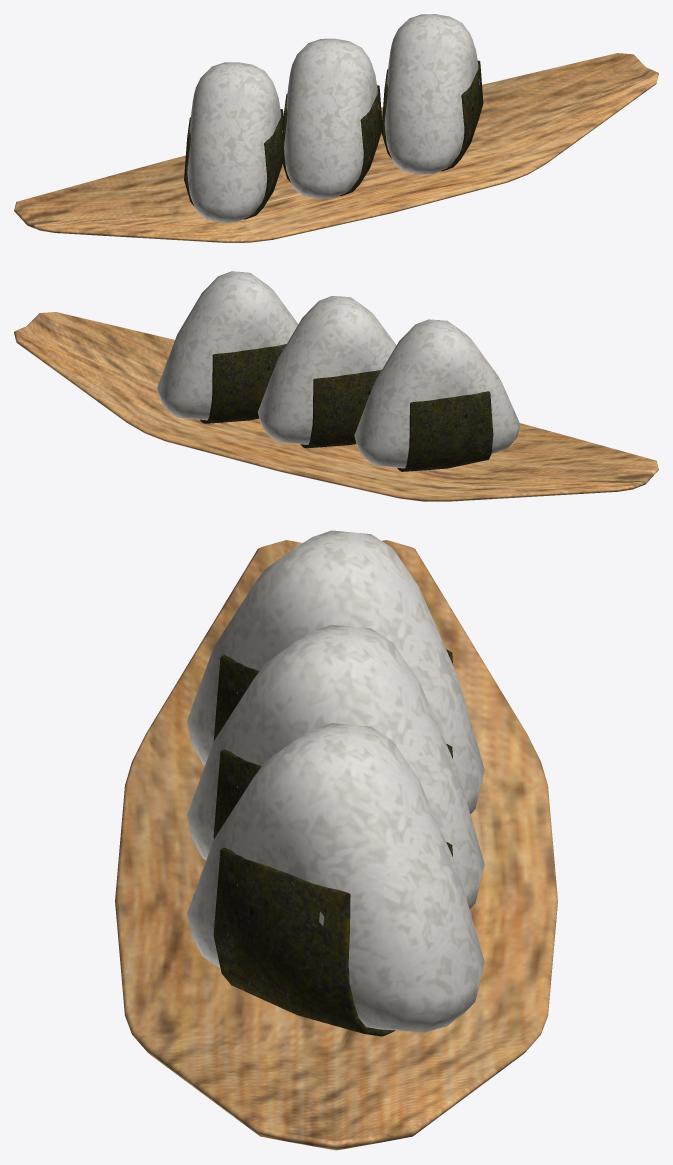
Rendered from RiceBall.fbx.
3 renders of one model, top to bottom at view 1: azimuth 30°, elevation 25°; view 2: azimuth 150°, elevation 25°; view 3: azimuth 270°, elevation 25°, orthographic. The views are drawn at different scales.
Visible parts, largest first — view 1: RiceBall; view 2: RiceBall; view 3: RiceBall.
Part boxes in pixels (x1,y1,x2,y2): RiceBall: [14, 14, 658, 242]; RiceBall: [14, 271, 658, 501]; RiceBall: [115, 530, 557, 1150].
Size of the model in its own units: 0.3636 by 0.0791 by 0.1125.
